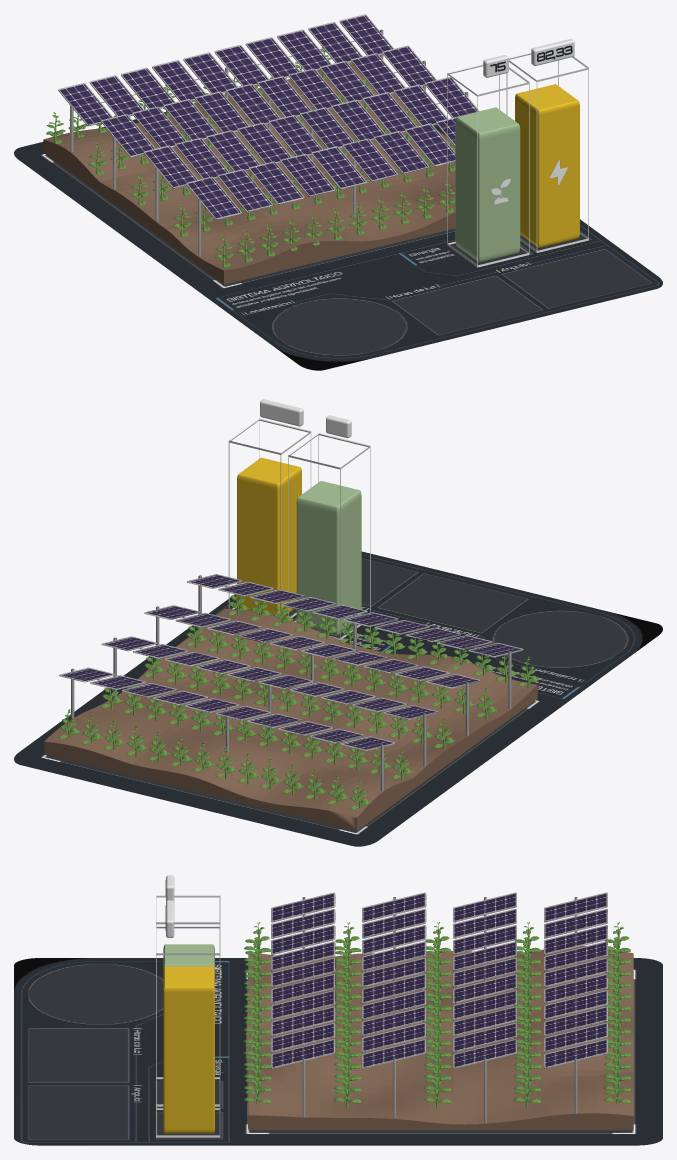
Rendered from costarica+invierno+15.glb.
3 views of the same model, one above another, from view 1: azimuth 30°, elevation 25°; view 2: azimuth 150°, elevation 25°; view 3: azimuth 270°, elevation 25° (orthographic). The views are drawn at different scales.
Parts seen in each view (by area): view 1: panelpintado.003 (×2), Tablero, Cube, Box, Box 1, Cube.001 (×2), Cube.002, Box 2; view 2: Cube, Tablero, panelpintado.003 (×2), Box, Box 1, Cube.001 (×2), Cube.002, Box 2; view 3: Tablero, panelpintado.003 (×2), Cube, Box 1, Cube.001 (×2), Cube.002, Box.
Boxes of the visible parts, x1,y1,x2,y2 form: panelpintado.003 (×2): [58, 14, 479, 219]; Tablero: [14, 112, 662, 370]; Cube: [43, 63, 455, 284]; Box: [455, 107, 520, 262]; Box 1: [515, 84, 579, 247]; Cube.001 (×2): [70, 29, 529, 267]; Cube.002: [506, 52, 588, 252]; Box 2: [531, 39, 574, 65]; Cube: [44, 608, 537, 830]; Tablero: [14, 551, 662, 846]; panelpintado.003 (×2): [59, 574, 523, 750]; Box: [296, 481, 361, 635]; Box 1: [237, 457, 301, 617]; Cube.001 (×2): [71, 433, 511, 791]; Cube.002: [228, 418, 311, 617]; Box 2: [260, 399, 303, 426]; Tablero: [14, 958, 662, 1145]; panelpintado.003 (×2): [271, 892, 607, 1068]; Cube: [246, 946, 633, 1130]; Box 1: [163, 966, 214, 1133]; Cube.001 (×2): [156, 895, 577, 1123]; Cube.002: [156, 926, 220, 1137]; Box: [163, 944, 214, 968].
Bounding box in the file's own units: 0.2418 × 0.1274 × 0.3537.
Materials: 16 (5 with a texture image).
